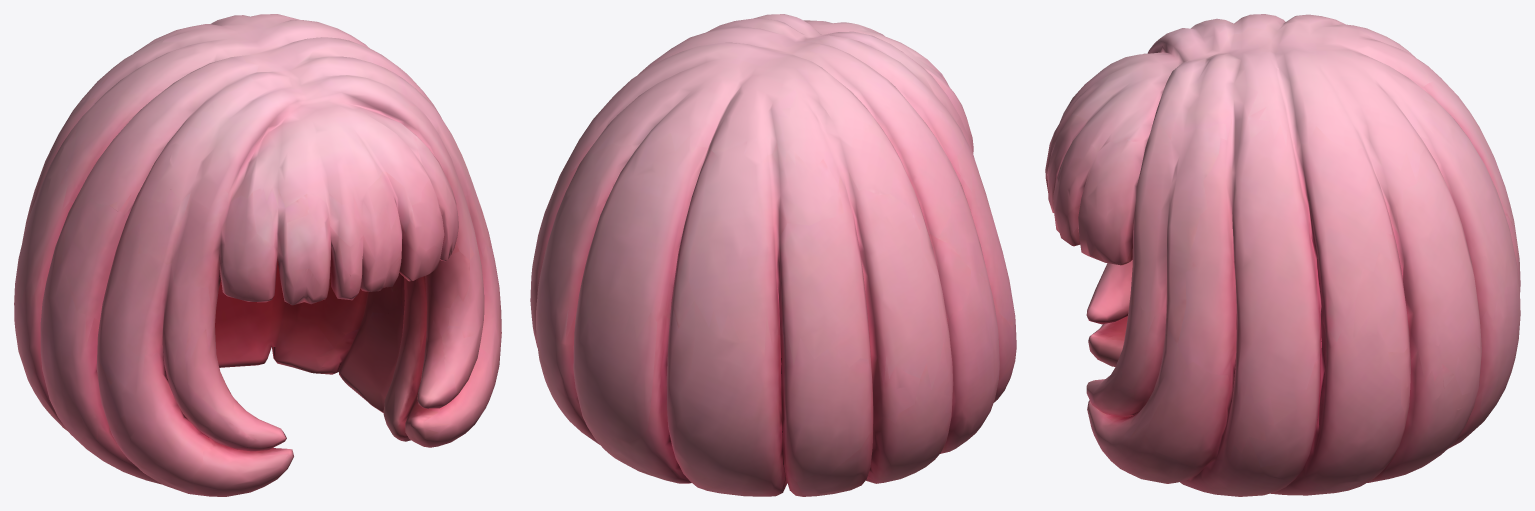
File: av-wig-pink-bob.glb
The picture shows the model from 3 angles, left to right: view 1: azimuth 30°, elevation 25°; view 2: azimuth 150°, elevation 25°; view 3: azimuth 270°, elevation 25°; orthographic projection.
Parts seen in each view (by area): view 1: tripo_node_4b36f0c4-8afe-44d7-8481-e55705b4e436; view 2: tripo_node_4b36f0c4-8afe-44d7-8481-e55705b4e436; view 3: tripo_node_4b36f0c4-8afe-44d7-8481-e55705b4e436.
Part boxes in pixels (x1,y1,x2,y2): tripo_node_4b36f0c4-8afe-44d7-8481-e55705b4e436: [14, 14, 501, 496]; tripo_node_4b36f0c4-8afe-44d7-8481-e55705b4e436: [530, 14, 1016, 496]; tripo_node_4b36f0c4-8afe-44d7-8481-e55705b4e436: [1045, 14, 1520, 496].
Size of the model in its own units: 1 by 0.875 by 0.964.
Materials: 1 (1 with a texture image).
